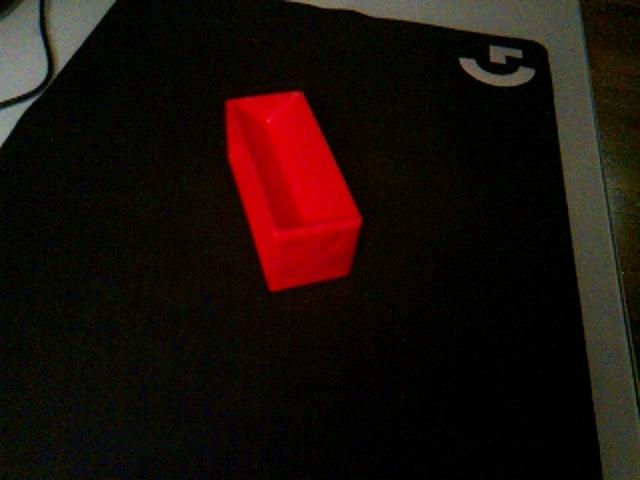red: (223, 88, 364, 293)
